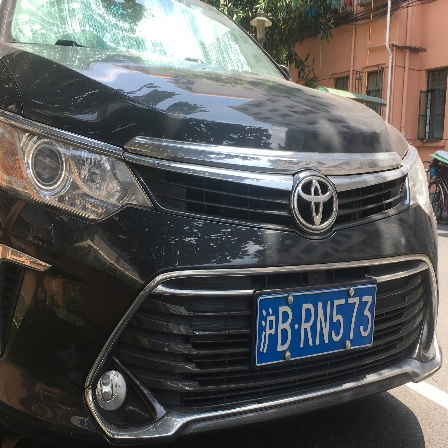plate: (254, 286, 379, 356)
